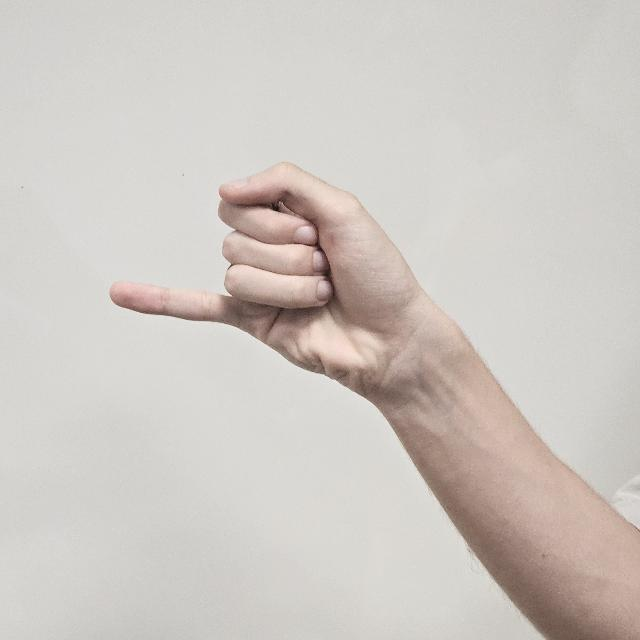Esquerda: (110, 124, 412, 404)
